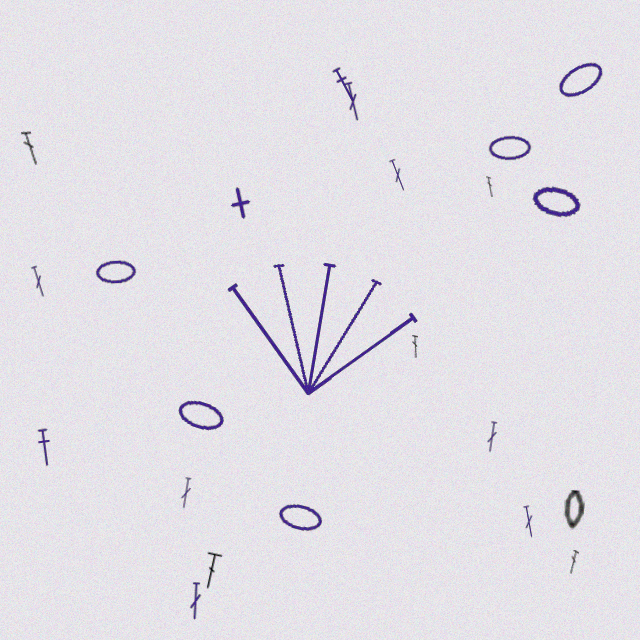chain: (553, 55, 609, 104), (174, 395, 228, 436), (529, 182, 584, 222), (276, 500, 324, 535), (488, 135, 532, 161), (95, 259, 137, 285), (563, 490, 585, 530)
double: (200, 551, 223, 591), (342, 81, 364, 122), (387, 158, 409, 192), (21, 130, 39, 166), (29, 265, 48, 298), (188, 582, 203, 620), (521, 505, 537, 538), (179, 477, 193, 509), (485, 421, 499, 453), (567, 550, 579, 574), (486, 176, 494, 197), (412, 335, 418, 358)
fan: (205, 226, 435, 414)
half_double: (330, 65, 359, 104), (35, 428, 54, 467)
single: (220, 183, 260, 223)
